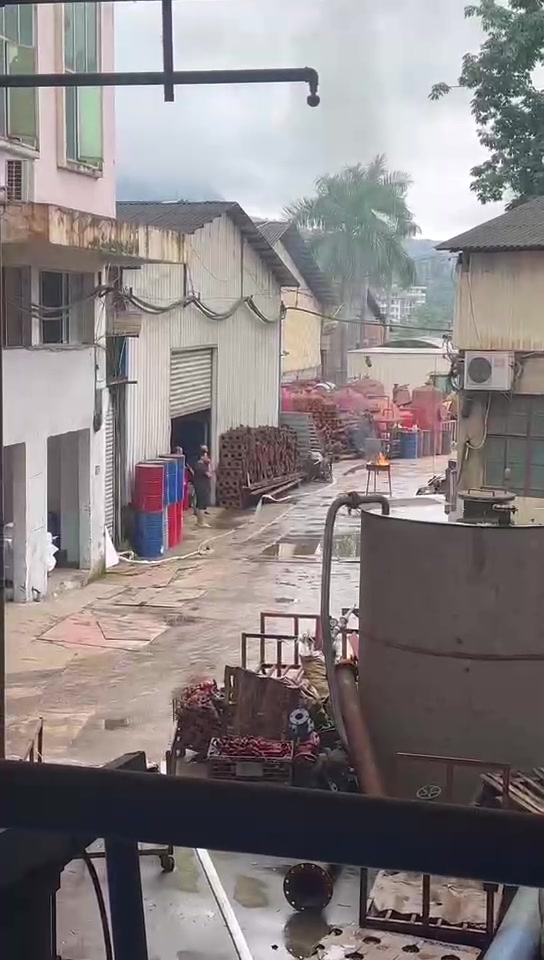fire: (366, 451, 388, 465)
